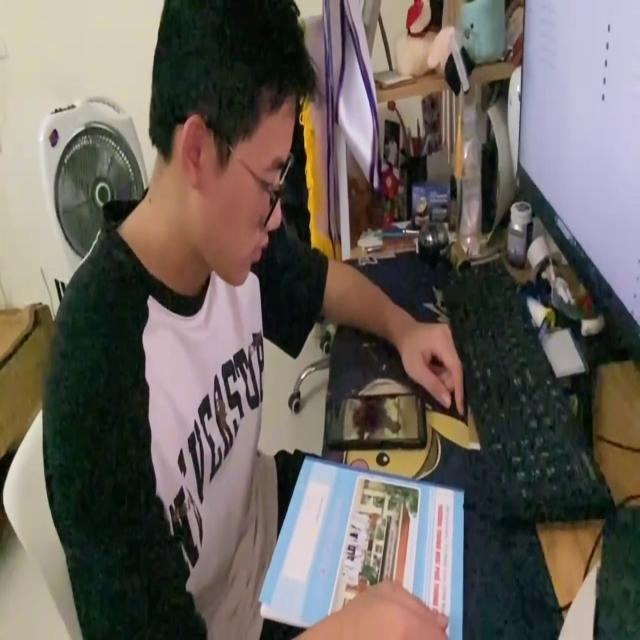book: (260, 452, 464, 640)
laptop: (516, 0, 640, 366)
phone: (325, 388, 430, 454)
student: (39, 0, 469, 640)
